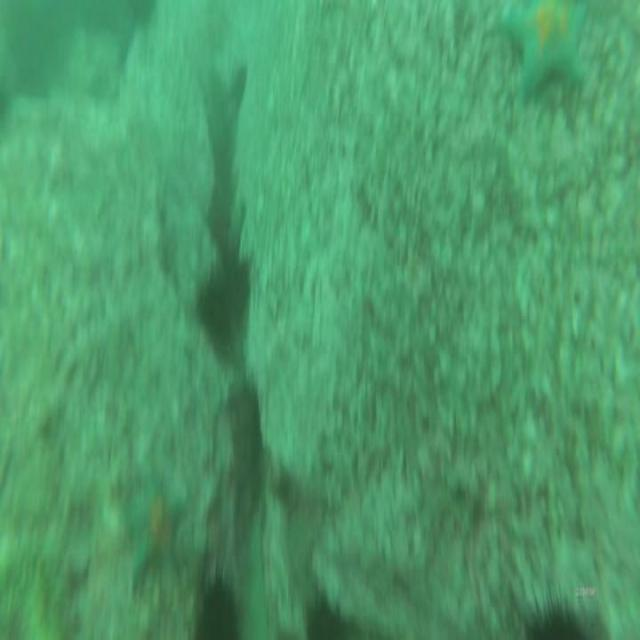echinus: (186, 565, 245, 640), (519, 581, 593, 640), (193, 274, 236, 356), (299, 584, 348, 640), (228, 251, 254, 299), (129, 0, 158, 32)
starfish: (498, 0, 593, 107), (122, 469, 188, 593)
